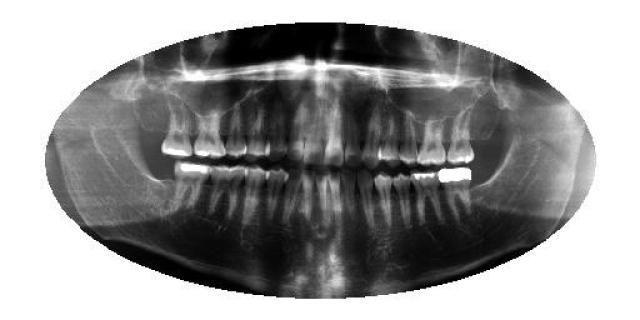Fillings: (174, 159, 211, 211), (440, 168, 475, 214)
